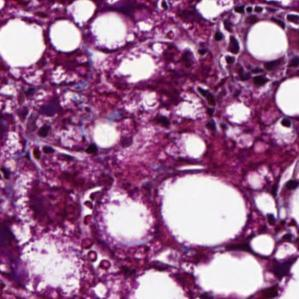inflammation: (208, 17, 246, 57)
